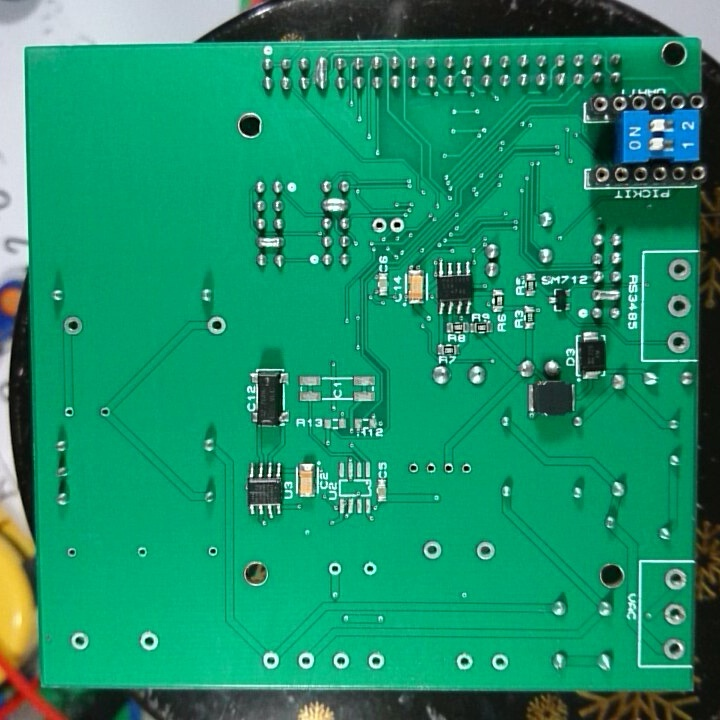F: (661, 600, 690, 631), (664, 326, 695, 355), (666, 255, 694, 286), (662, 566, 690, 594), (136, 627, 161, 655), (452, 650, 478, 675), (660, 635, 685, 660), (490, 649, 513, 676), (67, 630, 90, 654), (259, 649, 282, 673), (204, 315, 227, 338), (389, 213, 410, 238), (61, 314, 84, 336), (295, 648, 316, 672), (330, 651, 353, 672), (365, 652, 388, 673), (664, 295, 690, 313), (420, 537, 437, 563), (371, 215, 389, 238), (326, 558, 346, 578), (474, 539, 491, 561), (362, 558, 379, 580), (59, 405, 79, 423), (134, 543, 151, 563), (204, 543, 221, 561), (422, 461, 439, 479), (459, 460, 473, 480), (98, 403, 112, 422), (65, 543, 79, 561), (441, 460, 455, 478), (407, 462, 421, 478)
P: (591, 285, 622, 306), (253, 232, 287, 250), (318, 195, 349, 214), (315, 55, 330, 94)
